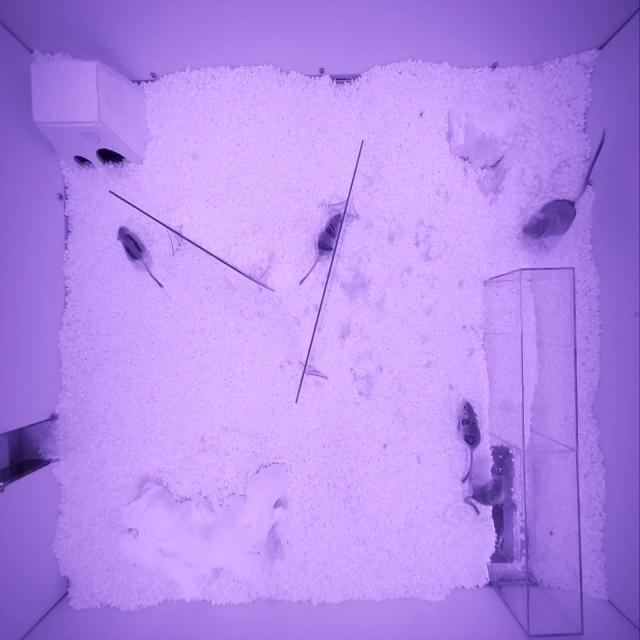adult_back: (522, 199, 577, 239)
pup_fluffy: (471, 475, 506, 505)
pup_h_stripe: (316, 213, 343, 257)
pup_spotted: (459, 401, 480, 450)
pup_v_stripe: (117, 225, 146, 261)
